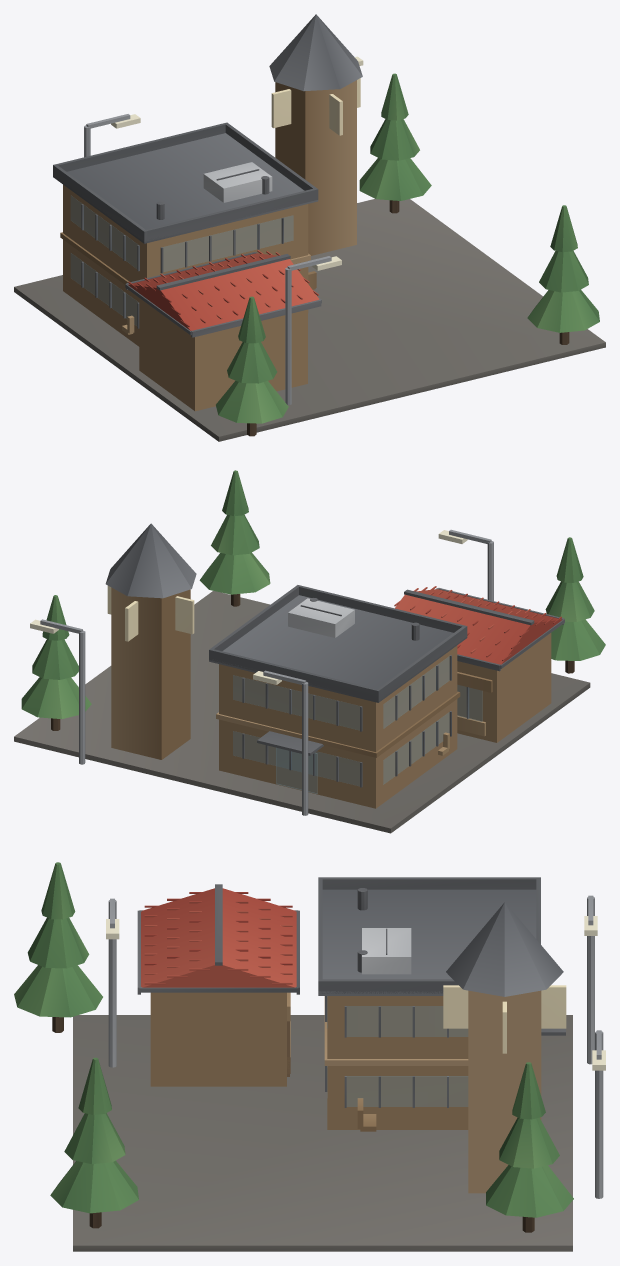
File: Civic_P1.fbx
3 views of the same model, one above another, from view 1: azimuth 30°, elevation 25°; view 2: azimuth 150°, elevation 25°; view 3: azimuth 270°, elevation 25° (orthographic). The views are drawn at different scales.
Parts seen in each view (by area): view 1: Civic.Plaza, Civic.Hall, Civic.Shop0, Civic.Tower, Civic.Tree2, Civic.Tree0, Civic.Tree1, Civic.Lamp0, Civic.Lamp2; view 2: Civic.Hall, Civic.Plaza, Civic.Tower, Civic.Shop0, Civic.Tree1, Civic.Tree0, Civic.Tree2, Civic.Lamp1, Civic.Lamp2, Civic.Lamp0; view 3: Civic.Plaza, Civic.Hall, Civic.Shop0, Civic.Tower, Civic.Tree2, Civic.Tree0, Civic.Tree1, Civic.Lamp0, Civic.Lamp1, Civic.Lamp2.
Boxes of the visible parts, bbox=[...] form: Civic.Plaza: bbox=[14, 199, 605, 441]; Civic.Hall: bbox=[53, 122, 318, 346]; Civic.Shop0: bbox=[125, 250, 321, 411]; Civic.Tower: bbox=[269, 14, 362, 255]; Civic.Tree2: bbox=[216, 296, 288, 436]; Civic.Tree0: bbox=[359, 73, 431, 213]; Civic.Tree1: bbox=[527, 205, 599, 344]; Civic.Lamp0: bbox=[285, 256, 341, 404]; Civic.Lamp2: bbox=[84, 114, 140, 157]; Civic.Hall: bbox=[209, 585, 467, 808]; Civic.Plaza: bbox=[14, 591, 590, 833]; Civic.Tower: bbox=[105, 523, 196, 759]; Civic.Shop0: bbox=[394, 586, 564, 742]; Civic.Tree1: bbox=[199, 470, 270, 606]; Civic.Tree0: bbox=[21, 595, 91, 730]; Civic.Tree2: bbox=[545, 537, 605, 673]; Civic.Lamp1: bbox=[30, 619, 85, 764]; Civic.Lamp2: bbox=[253, 670, 308, 815]; Civic.Lamp0: bbox=[438, 529, 493, 600]; Civic.Plaza: bbox=[73, 1015, 572, 1251]; Civic.Hall: bbox=[318, 877, 565, 1129]; Civic.Shop0: bbox=[137, 884, 299, 1086]; Civic.Tower: bbox=[443, 902, 566, 1193]; Civic.Tree2: bbox=[14, 862, 102, 1032]; Civic.Tree0: bbox=[486, 1062, 573, 1232]; Civic.Tree1: bbox=[50, 1057, 138, 1228]; Civic.Lamp0: bbox=[106, 898, 119, 1067]; Civic.Lamp1: bbox=[592, 1030, 605, 1198]; Civic.Lamp2: bbox=[584, 895, 597, 1064].
Size of the model in its own units: 2476 by 1371 by 2604.
